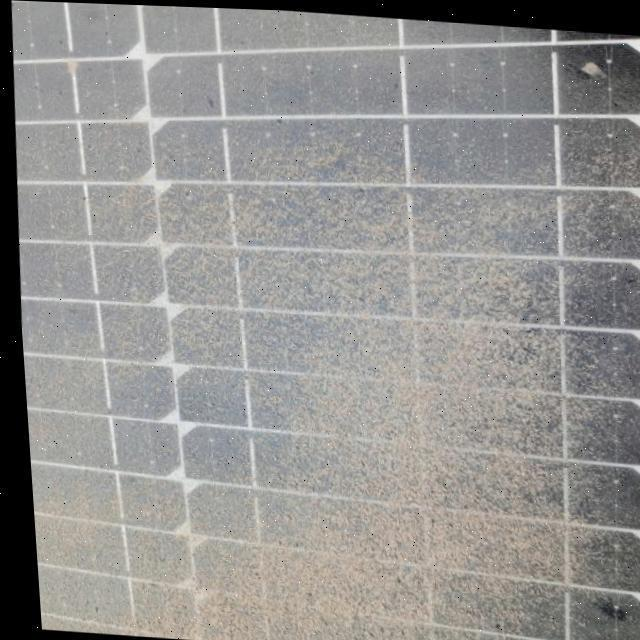Surface Contaminant: (11, 0, 640, 640)
